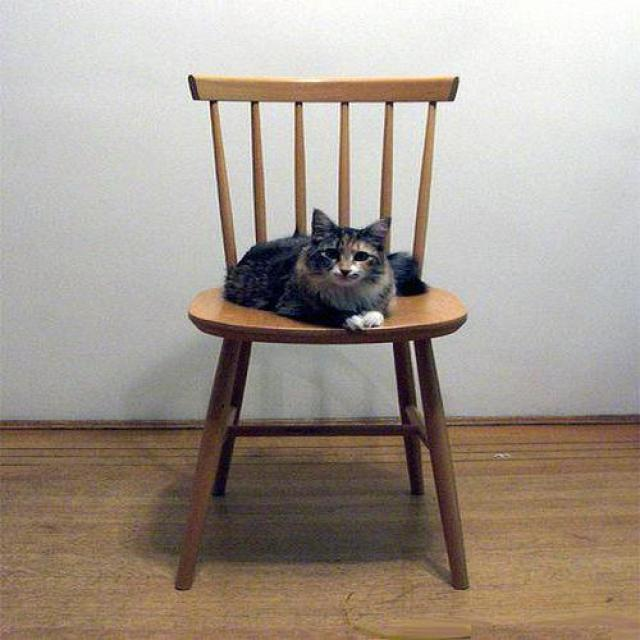chair: (175, 288, 468, 594), (188, 76, 460, 268)
